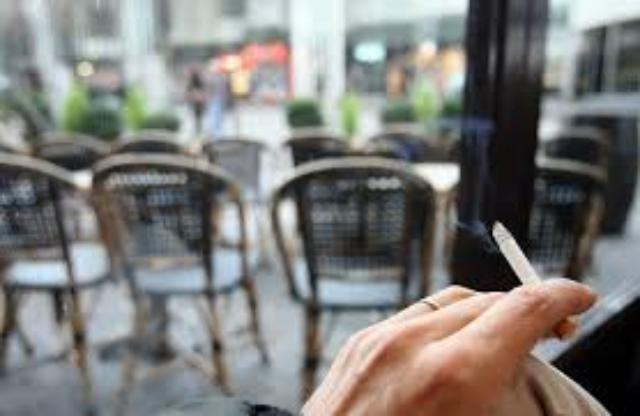Cigarette: (492, 220, 576, 342)
